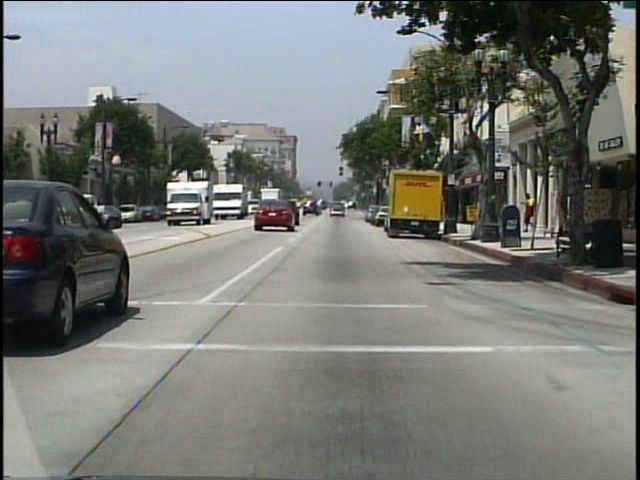person: (523, 193, 534, 236)
